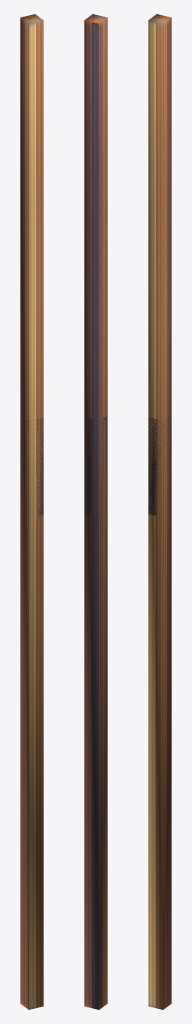
Rendered from steam_vent.glb.
3 views of the same model, side by side, from view 1: azimuth 30°, elevation 25°; view 2: azimuth 150°, elevation 25°; view 3: azimuth 330°, elevation 25° (orthographic).
Visible parts, largest first — view 1: col, lod0; view 2: col, lod0; view 3: col, lod0.
Boxes of the visible parts, x1,y1,x2,y2 form: col: [20, 14, 43, 1009]; lod0: [20, 17, 43, 514]; col: [84, 14, 107, 1009]; lod0: [84, 17, 107, 515]; col: [148, 14, 171, 1009]; lod0: [148, 17, 171, 516].
Size of the model in its own units: 0.0143 by 0.9153 by 0.0143.
Materials: 1 (1 with a texture image).
